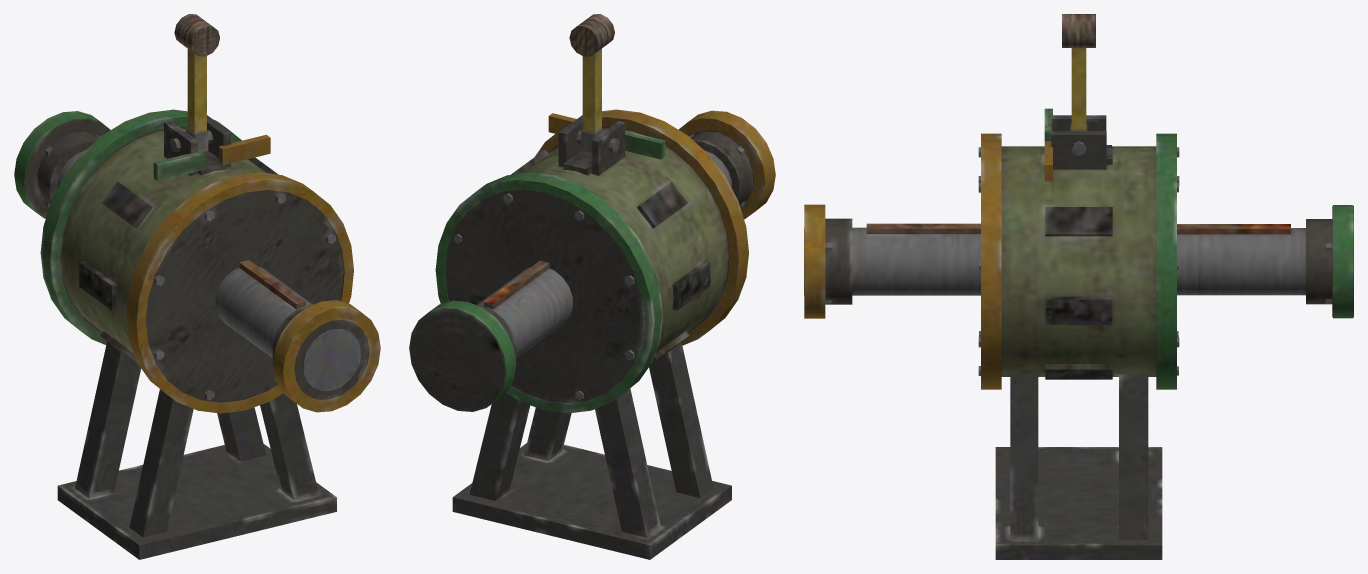
The model's file is feClutch.glb.
3 views of the same model, side by side, from view 1: azimuth 30°, elevation 25°; view 2: azimuth 150°, elevation 25°; view 3: azimuth 270°, elevation 25° (orthographic).
Visible parts, largest first — view 1: feClutch_Base, FeSpinOut_Clutch, FeSpinIn_Clutch, FeLever_Clutch; view 2: feClutch_Base, FeSpinIn_Clutch, FeSpinOut_Clutch, FeLever_Clutch; view 3: feClutch_Base, FeSpinOut_Clutch, FeSpinIn_Clutch, FeLever_Clutch.
Boxes of the visible parts, x1,y1,x2,y2 form: feClutch_Base: [40, 109, 353, 559]; FeSpinOut_Clutch: [215, 260, 380, 412]; FeSpinIn_Clutch: [14, 111, 110, 218]; FeLever_Clutch: [174, 14, 219, 151]; feClutch_Base: [435, 109, 748, 559]; FeSpinIn_Clutch: [409, 261, 572, 411]; FeSpinOut_Clutch: [678, 110, 775, 219]; FeLever_Clutch: [569, 14, 614, 153]; feClutch_Base: [978, 108, 1179, 559]; FeSpinOut_Clutch: [804, 204, 980, 318]; FeSpinIn_Clutch: [1177, 205, 1353, 318]; FeLever_Clutch: [1062, 14, 1095, 131].
Size of the model in its own units: 0.468 by 1 by 1.
Materials: 1 (1 with a texture image).
